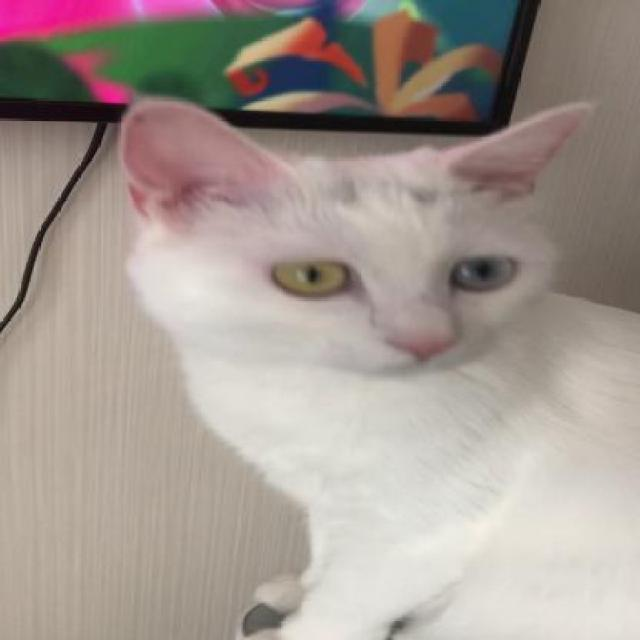cat-face: (125, 106, 567, 377)
